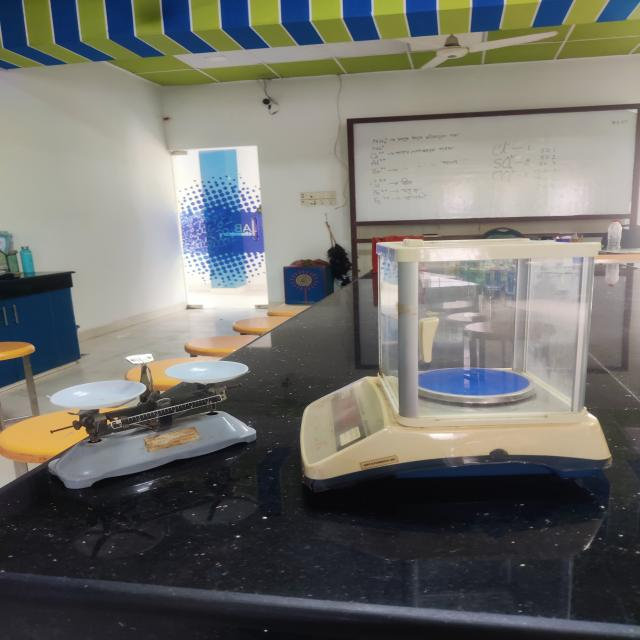Mechanical_Balance_Scale: (27, 355, 264, 498)
Precision_Weight_Scale: (291, 216, 620, 507)
